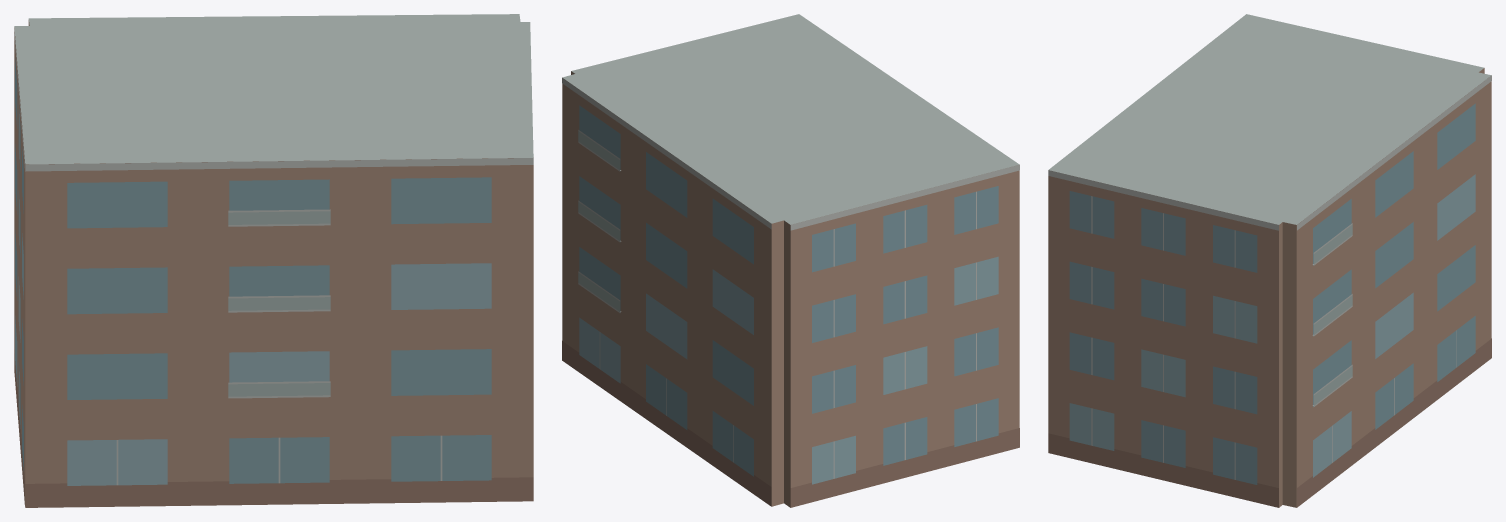
File: survey-upis-33027550.glb
3 views of the same model, side by side, from view 1: azimuth 30°, elevation 25°; view 2: azimuth 150°, elevation 25°; view 3: azimuth 270°, elevation 25° (orthographic). The views are drawn at different scales.
Parts seen in each view (by area): view 1: survey-upis-33027550.tmp; view 2: survey-upis-33027550.tmp; view 3: survey-upis-33027550.tmp.
Boxes of the visible parts, bbox=[...] form: survey-upis-33027550.tmp: bbox=[14, 14, 533, 507]; survey-upis-33027550.tmp: bbox=[562, 14, 1019, 507]; survey-upis-33027550.tmp: bbox=[1048, 14, 1491, 507].
Bounding box in the file's own units: 18.96 × 11.85 × 16.84.
